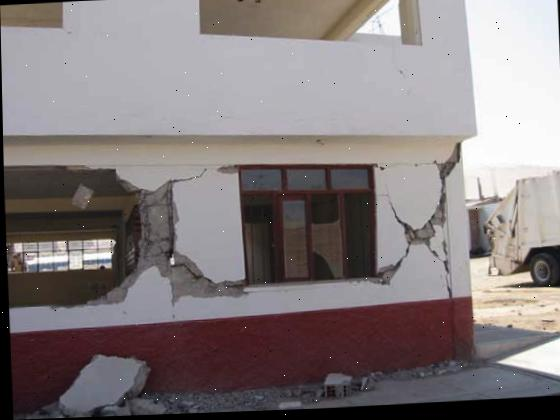spalling: (90, 180, 244, 303), (377, 142, 460, 283)
